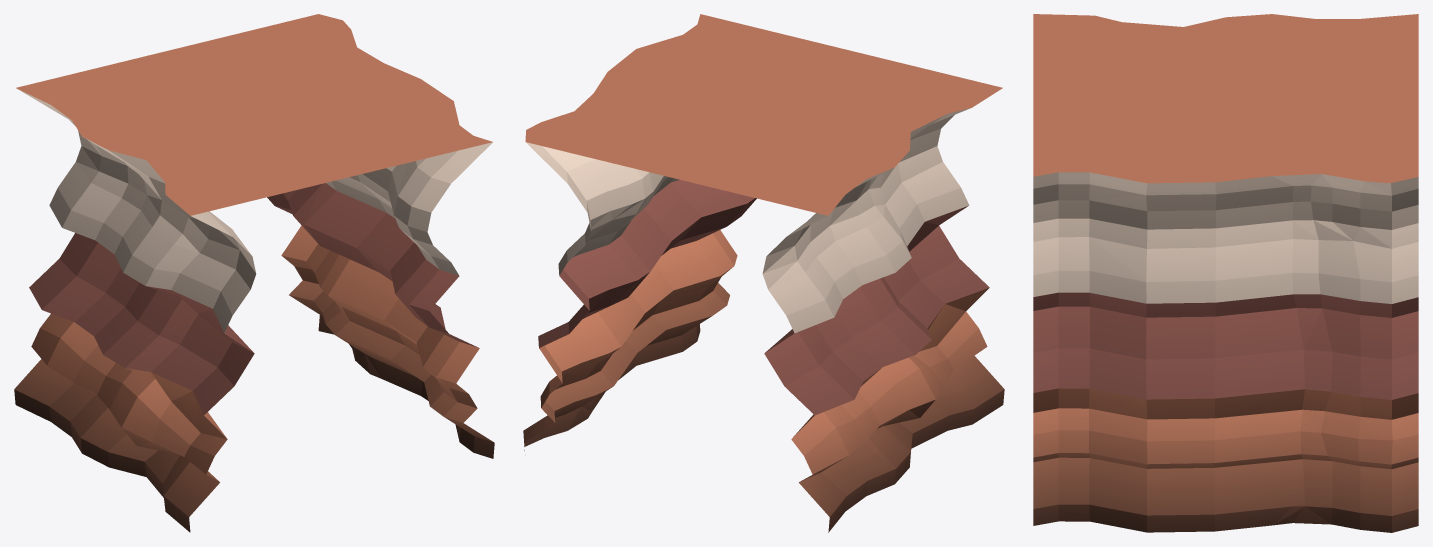
File: bridge1.fbx
3 renders of one model, left to right at view 1: azimuth 30°, elevation 25°; view 2: azimuth 150°, elevation 25°; view 3: azimuth 270°, elevation 25°, orthographic. The views are drawn at different scales.
Visible parts, largest first — view 1: bridge1; view 2: bridge1; view 3: bridge1.
Part boxes in pixels (x1,y1,x2,y2): bridge1: [14, 14, 494, 532]; bridge1: [523, 14, 1004, 532]; bridge1: [1033, 14, 1418, 532].
Size of the model in its own units: 105 by 100 by 100.
